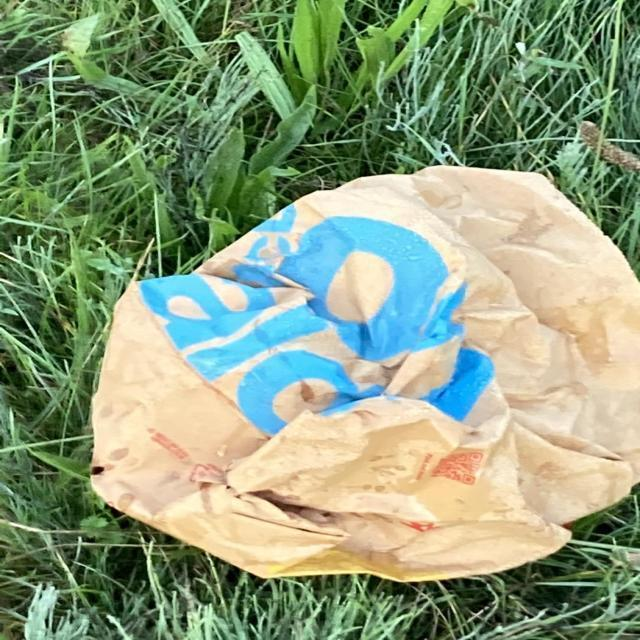Paper: (86, 164, 640, 583)
